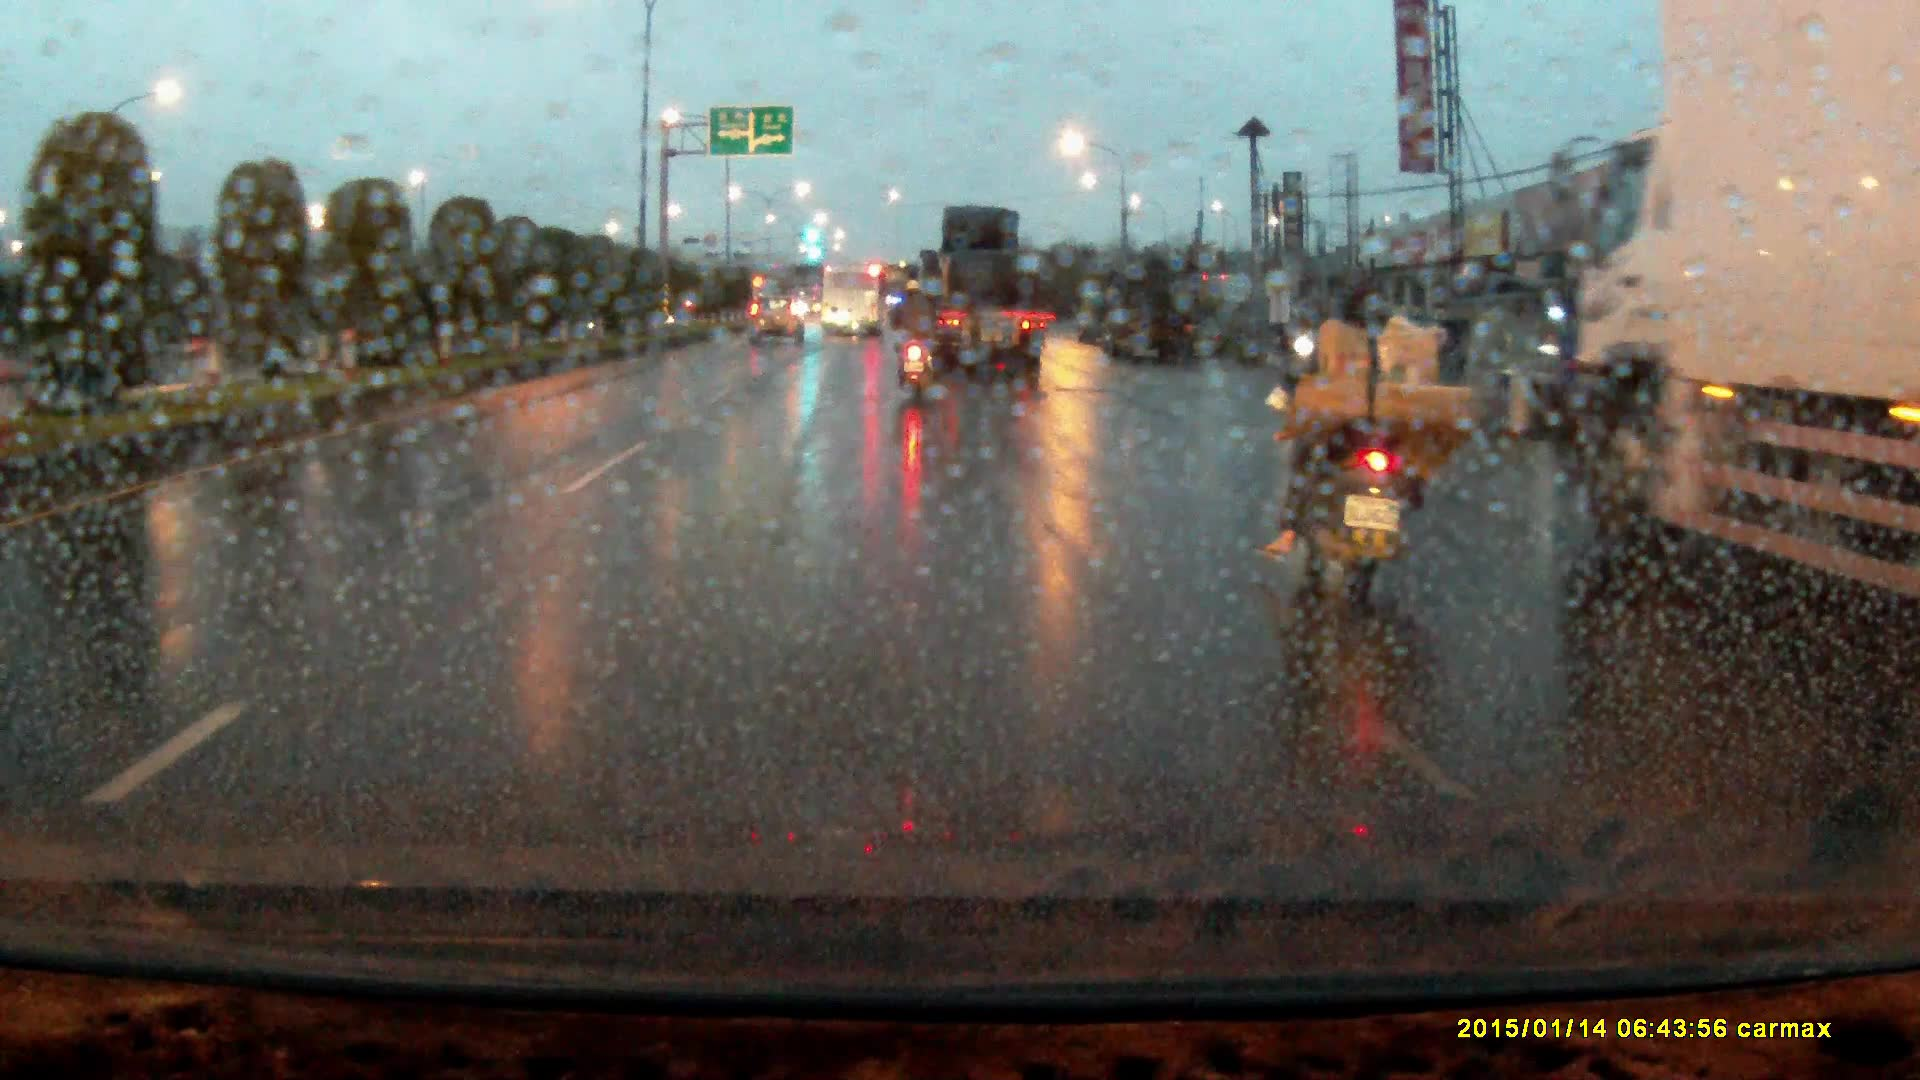rider: (1265, 252, 1484, 626), (895, 271, 944, 388)
vehicle: (1554, 1, 1920, 610), (902, 202, 1047, 380), (1111, 256, 1204, 362), (822, 263, 888, 341), (749, 292, 805, 340), (1074, 285, 1120, 342)
